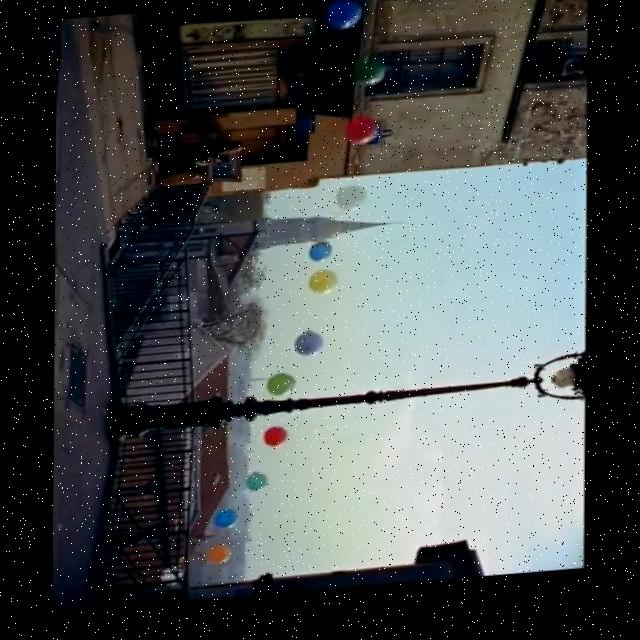balloon: (325, 4, 363, 36), (352, 63, 386, 92), (345, 121, 376, 151), (295, 334, 325, 362), (309, 273, 339, 300), (336, 190, 366, 216), (267, 376, 297, 400), (205, 546, 233, 569), (264, 429, 288, 452), (309, 247, 333, 267), (214, 512, 238, 532), (247, 475, 269, 495)
